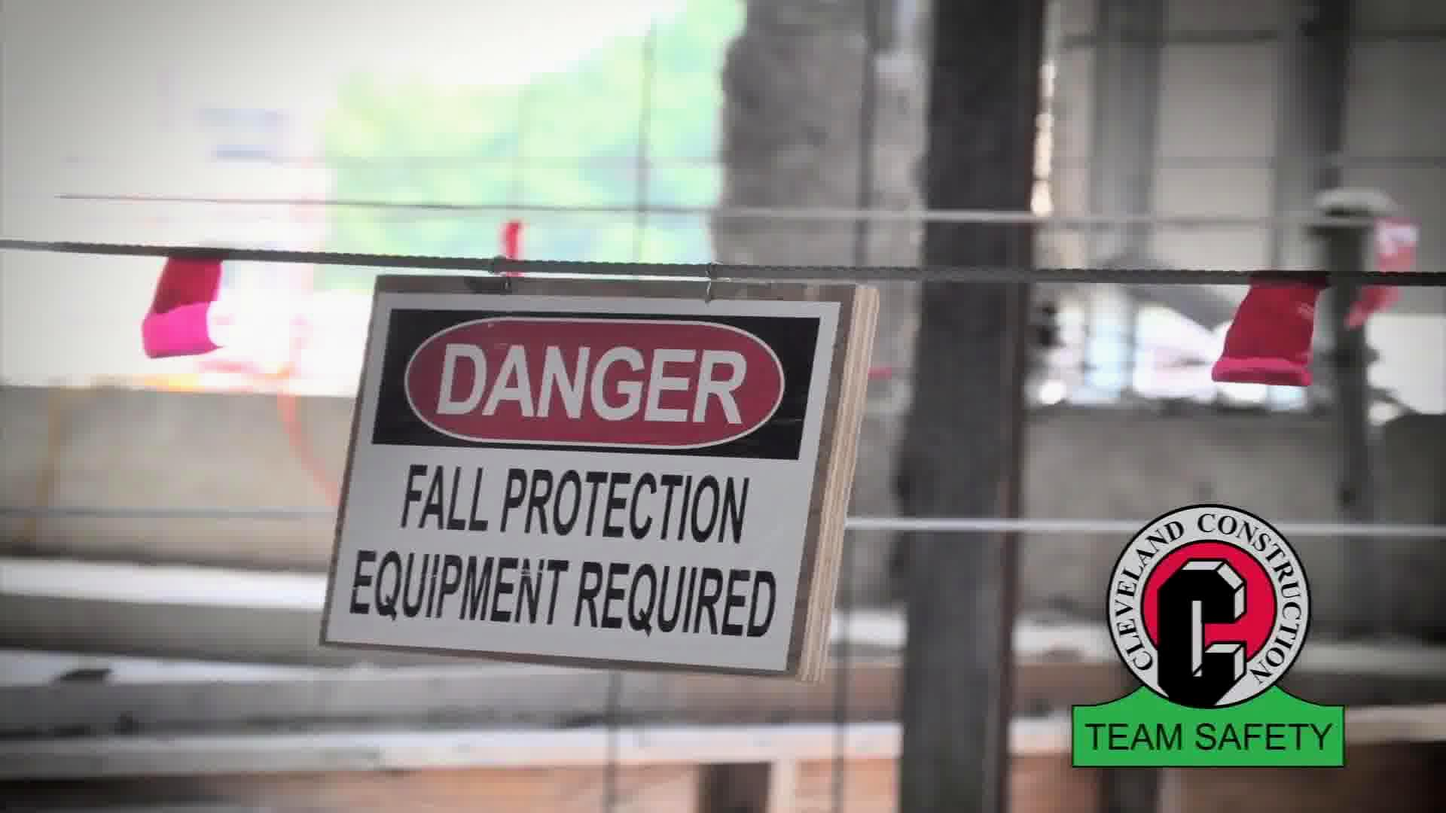safety_signage: (307, 233, 889, 706)
